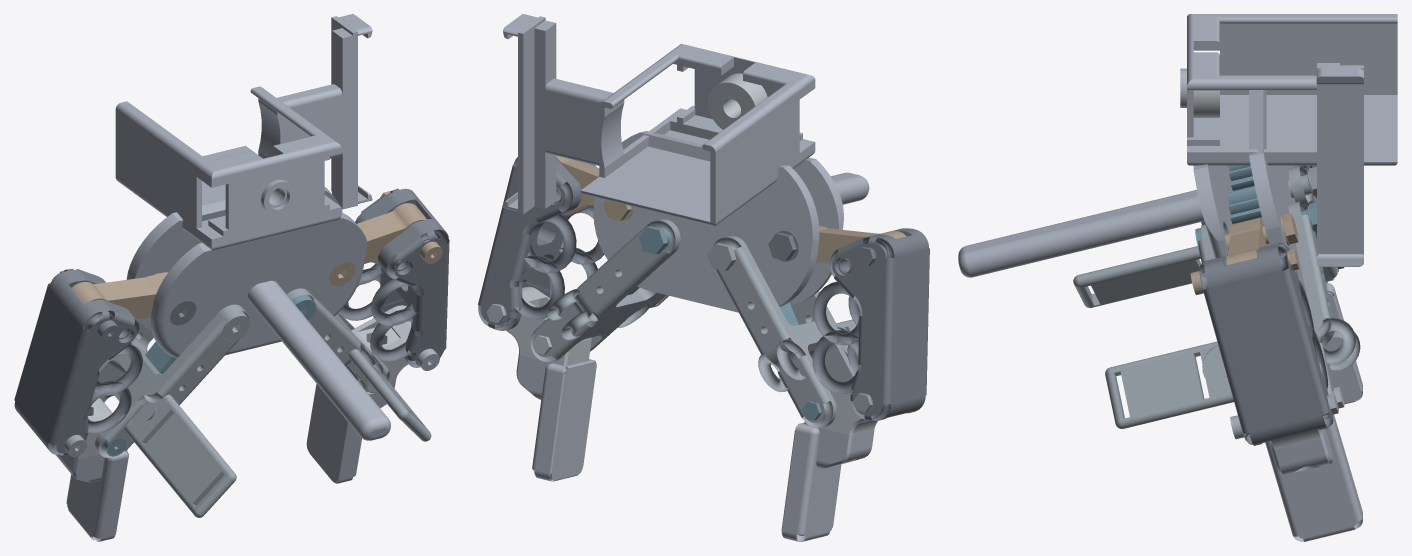
File: robotiq-assembled-low-profile.glb
3 renders of one model, left to right at view 1: azimuth 30°, elevation 25°; view 2: azimuth 150°, elevation 25°; view 3: azimuth 270°, elevation 25°, orthographic. The views are drawn at different scales.
Parts seen in each view (by area): view 1: handheld-body, right-bar, right-proximal, left-bar, right-pad, left-proximal, left-pad, right-frame, left-frame, left-distal, right-distal, right-inner-chassis-pivot (+1 smaller); view 2: handheld-body, right-bar, left-bar, right-proximal, left-proximal, left-pad, right-pad, camera-support, left-distal, right-frame, right-distal, left-frame (+3 smaller); view 3: handheld-body, left-bar, left-proximal, left-pad, right-proximal, right-pad, left-frame, left-drive, camera-support, left-outer-chassis-pivot, right-drive, left-distal.
Part boxes in pixels (x1,y1,x2,y2): handheld-body: (115, 14, 390, 440); right-bar: (14, 268, 142, 455); right-proximal: (95, 304, 249, 517); left-bar: (339, 188, 449, 367); right-pad: (55, 450, 128, 541); left-proximal: (287, 288, 431, 441); left-pad: (306, 381, 395, 483); right-frame: (71, 272, 167, 319); left-frame: (357, 203, 426, 264); left-distal: (351, 305, 411, 382); right-distal: (74, 397, 112, 459); right-inner-chassis-pivot: (222, 310, 250, 341); handheld-body: (503, 14, 869, 312); right-bar: (812, 228, 929, 420); left-bar: (478, 157, 604, 330); right-proximal: (713, 236, 856, 428); left-proximal: (530, 219, 680, 362); left-pad: (516, 354, 596, 481); right-pad: (781, 422, 874, 541); camera-support: (708, 73, 767, 129); left-distal: (506, 286, 591, 365); right-frame: (816, 225, 906, 268); right-distal: (804, 390, 877, 435); left-frame: (556, 155, 599, 215); handheld-body: (958, 14, 1397, 288); left-bar: (1199, 243, 1333, 445); left-proximal: (1105, 201, 1360, 428); left-pad: (1265, 415, 1362, 541); right-proximal: (1073, 166, 1338, 307); right-pad: (1306, 281, 1362, 404); left-frame: (1226, 217, 1268, 265); left-drive: (1227, 186, 1269, 245); camera-support: (1193, 90, 1219, 117); left-outer-chassis-pivot: (1224, 213, 1298, 250); right-drive: (1228, 165, 1254, 191); left-distal: (1269, 429, 1323, 449).
Size of the model in its own units: 0.1528 by 0.1616 by 0.1334.
